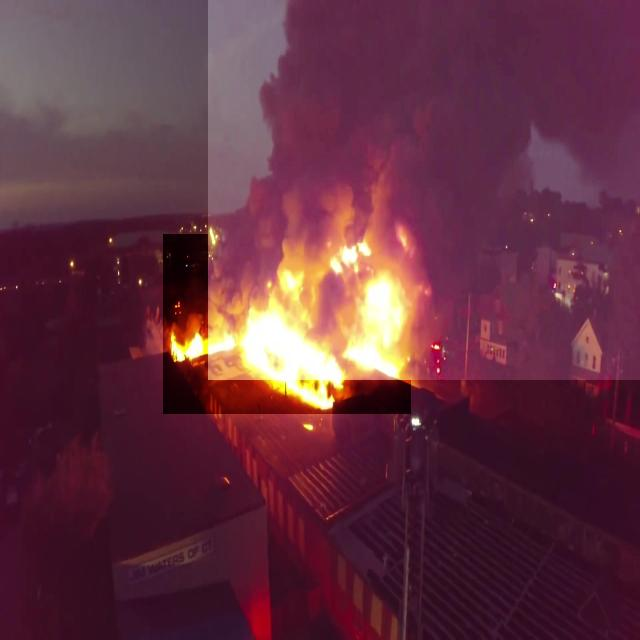Fire: (208, 0, 640, 380), (163, 234, 411, 414)
